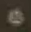limite 50: (7, 6, 25, 28)
